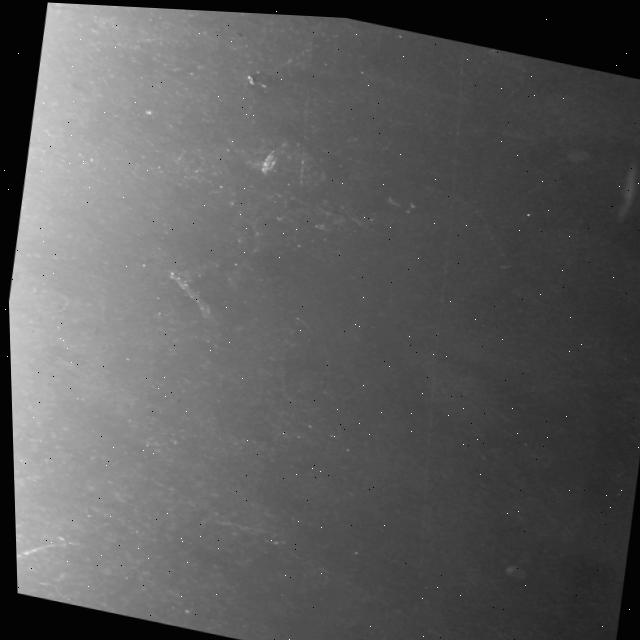beta: (97, 468, 457, 636), (302, 143, 521, 261), (265, 19, 333, 82), (12, 524, 66, 597), (12, 243, 80, 272), (9, 396, 18, 450)
